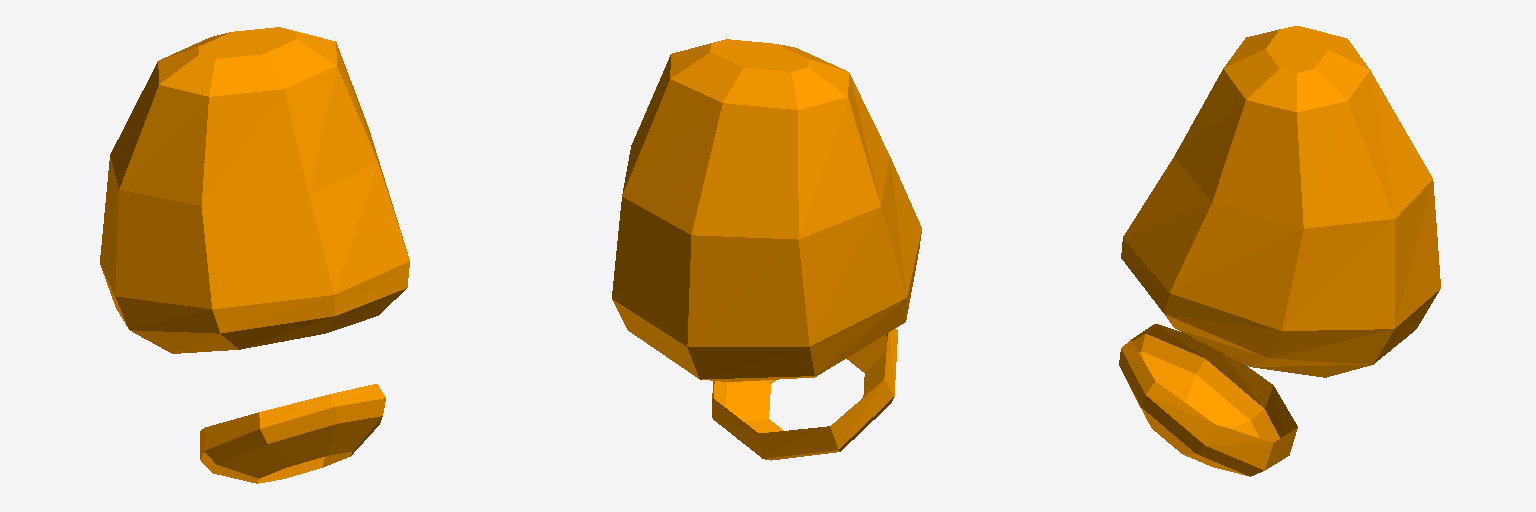
Rendered from beeYellow.obj.
The picture shows the model from 3 angles: view 1: azimuth 30°, elevation 25°; view 2: azimuth 150°, elevation 25°; view 3: azimuth 270°, elevation 25°; orthographic projection.
Visible parts, largest first — view 1: Object002; view 2: Object002; view 3: Object002.
Boxes of the visible parts, box(x1,y1,x2,y2) form: Object002: box(100, 27, 409, 483); Object002: box(612, 39, 921, 460); Object002: box(1119, 26, 1440, 476).
Size of the model in its own units: 16.84 by 23.81 by 16.8.